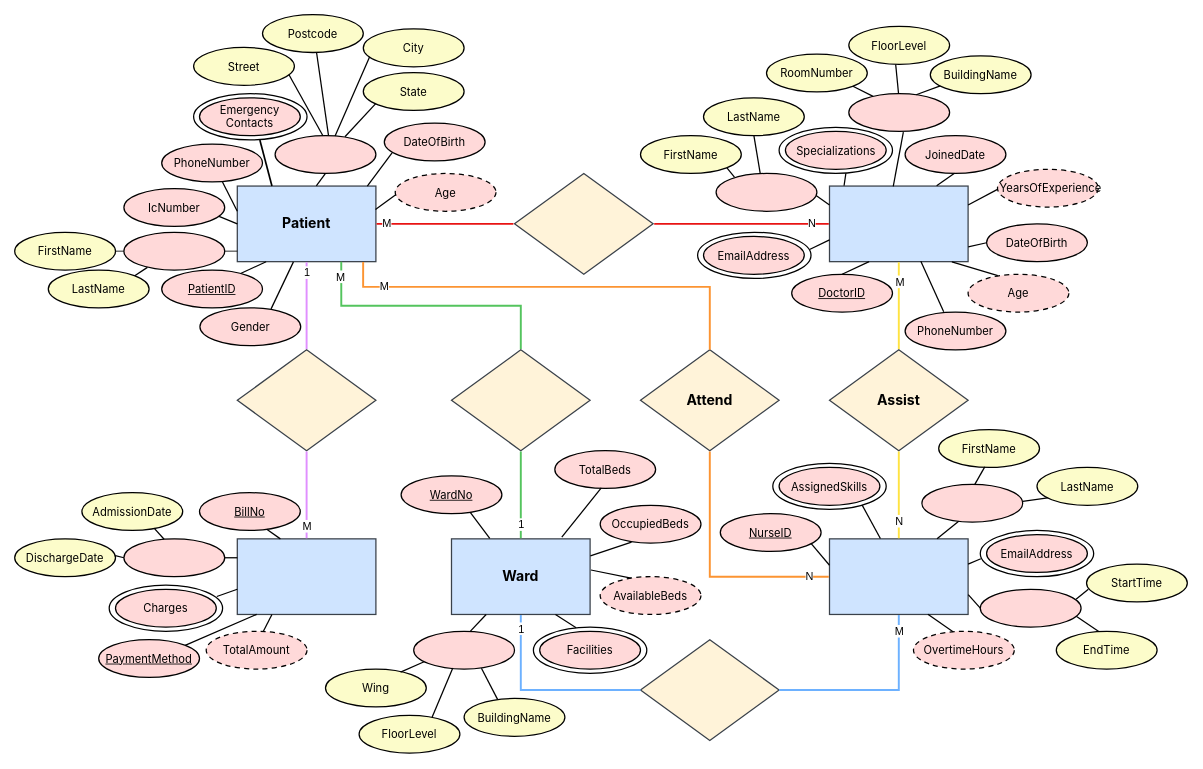
Some shapes in this 1203 by 769 pixel diagram are drawn without their labels. Here are the shapes that lost their labels. From the top down, the centre of each, then its label:
the point at 899,112: OfficeLocation
the point at 325,154: Address
the point at 766,192: DoctorName
the point at 583,223: Consult
the point at 898,223: Doctor
the point at 174,250: PatientName
the point at 306,400: Pay
the point at 520,400: Assign
the point at 972,502: NurseName
the point at 174,557: BillingPeriod
the point at 306,576: Bill
the point at 898,576: Nurse
the point at 1030,607: WorkingShift
the point at 464,649: WardLocation
the point at 709,690: Monitor
